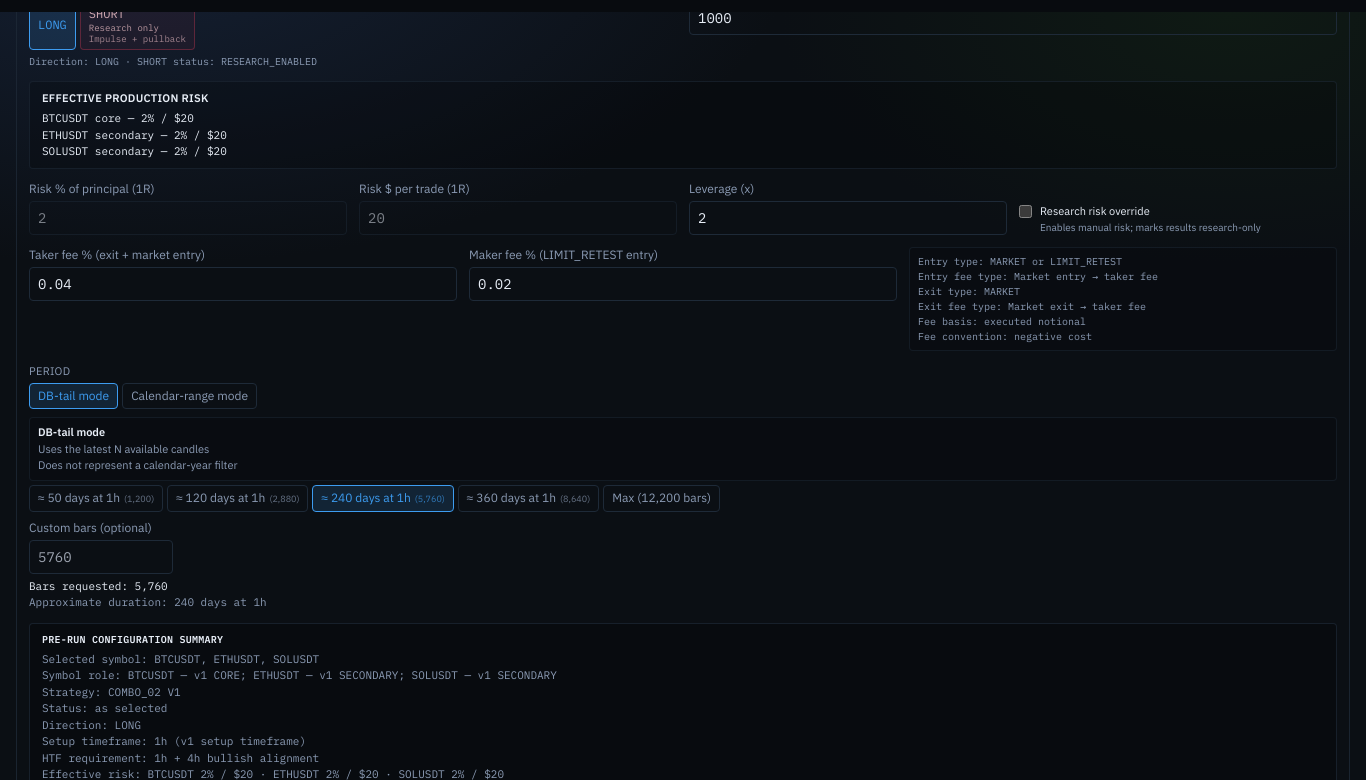
Test case: BacktestPanel interaction paths › 15. Calendar-range mode label
The width and height of the screenshot is (1366, 780).
(page scrolled)
Click the button "Calendar-range mode" at point(190, 396), box [122,383,257,409]
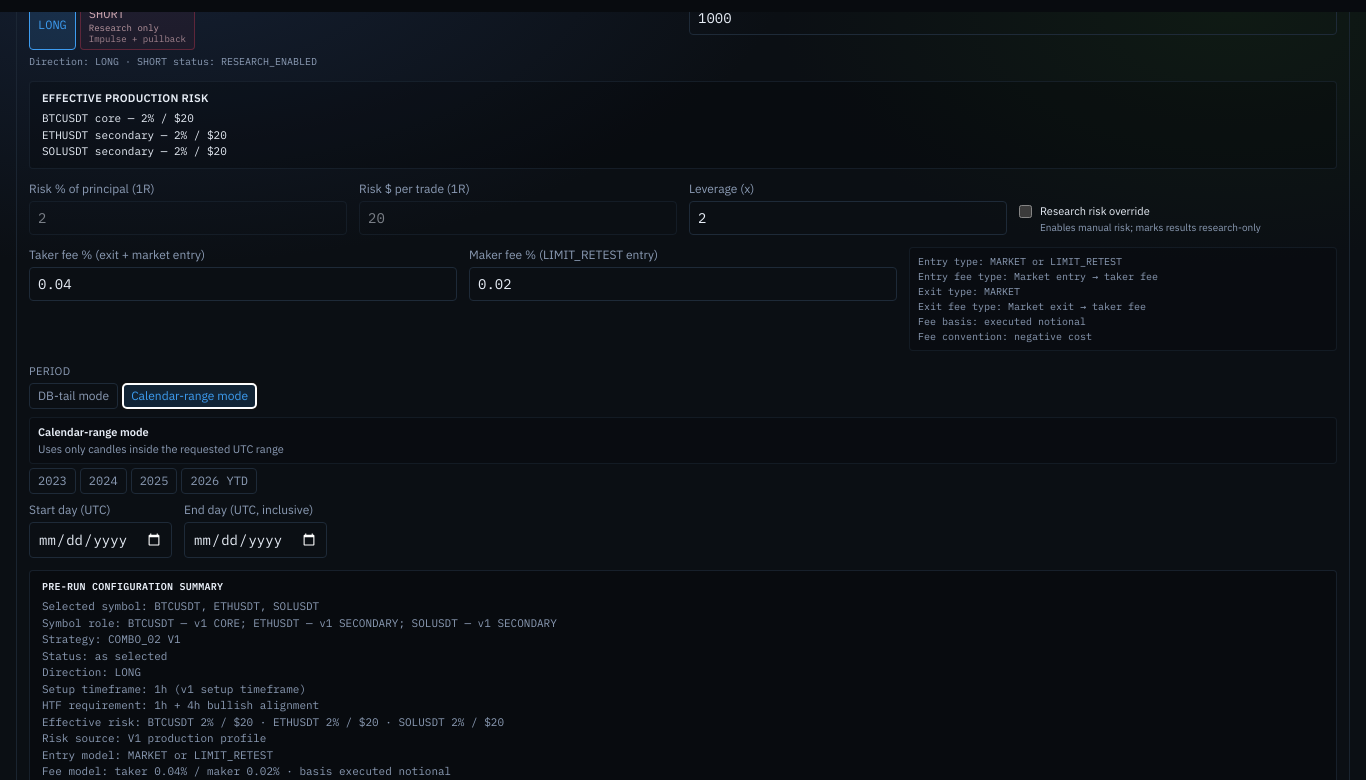
Result: the text "Uses only candles inside the requested UTC range" is shown at [38,442,284,456]
